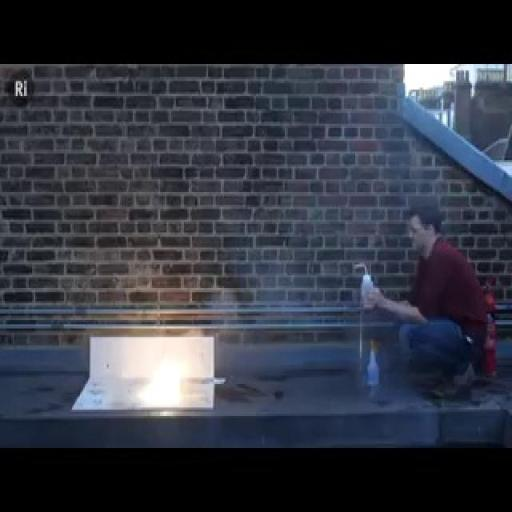smoke: (123, 321, 202, 409)
